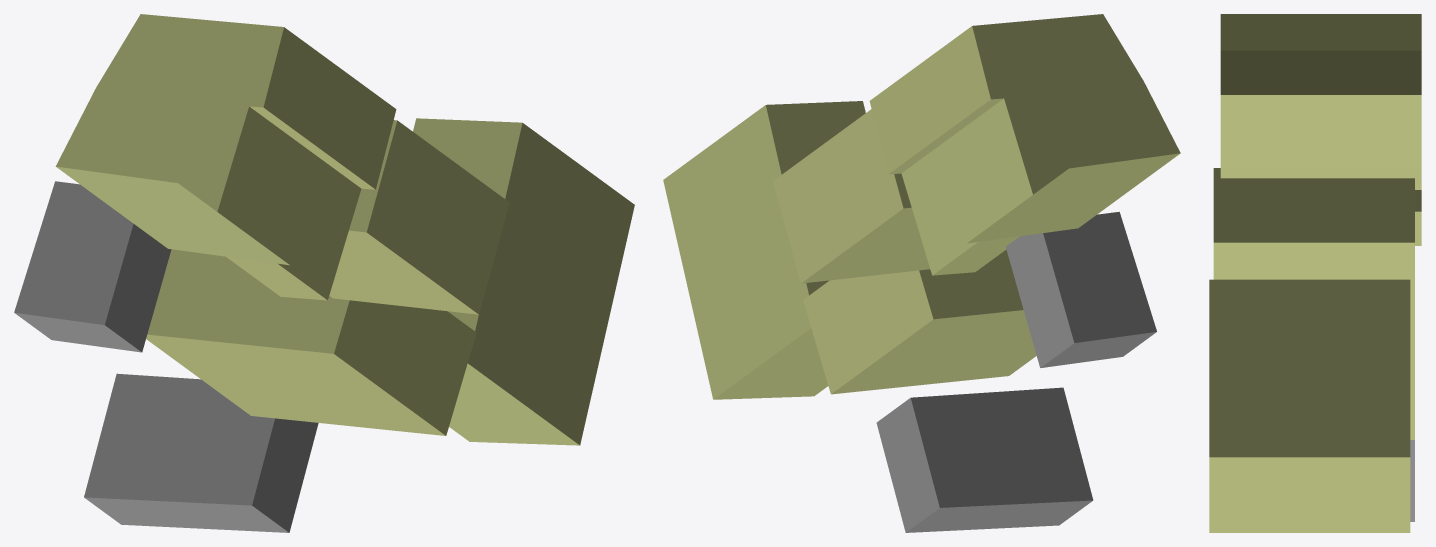
3 renders of one model, left to right at view 1: azimuth 30°, elevation 25°; view 2: azimuth 150°, elevation 25°; view 3: azimuth 270°, elevation 25°, orthographic. The views are drawn at different scales.
Visible parts, largest first — view 1: 0_1_0_2_0_0_0_1_0_0; view 2: 0_1_0_2_0_0_0_1_0_0; view 3: 0_1_0_2_0_0_0_1_0_0.
Part boxes in pixels (bbox=[...]): 0_1_0_2_0_0_0_1_0_0: bbox=[14, 14, 634, 532]; 0_1_0_2_0_0_0_1_0_0: bbox=[663, 14, 1180, 532]; 0_1_0_2_0_0_0_1_0_0: bbox=[1209, 14, 1421, 532].
Bounding box in the file's own units: 23.41 × 22.77 × 9.5.
